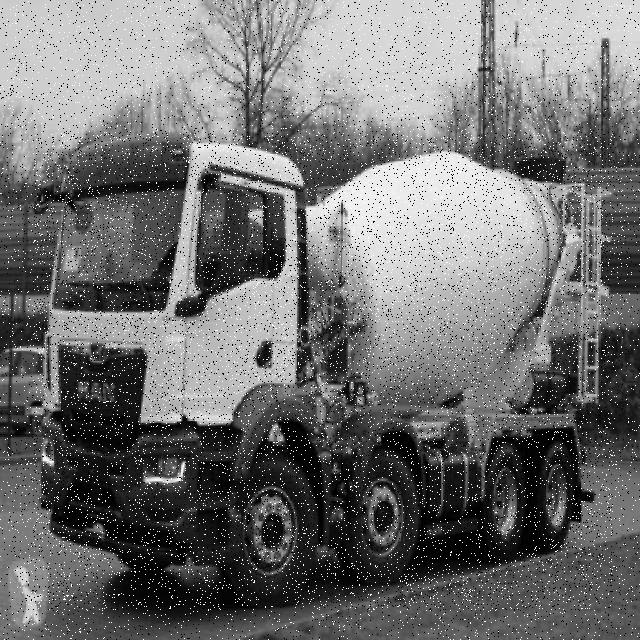Concrete Mixer: (33, 133, 613, 610)
